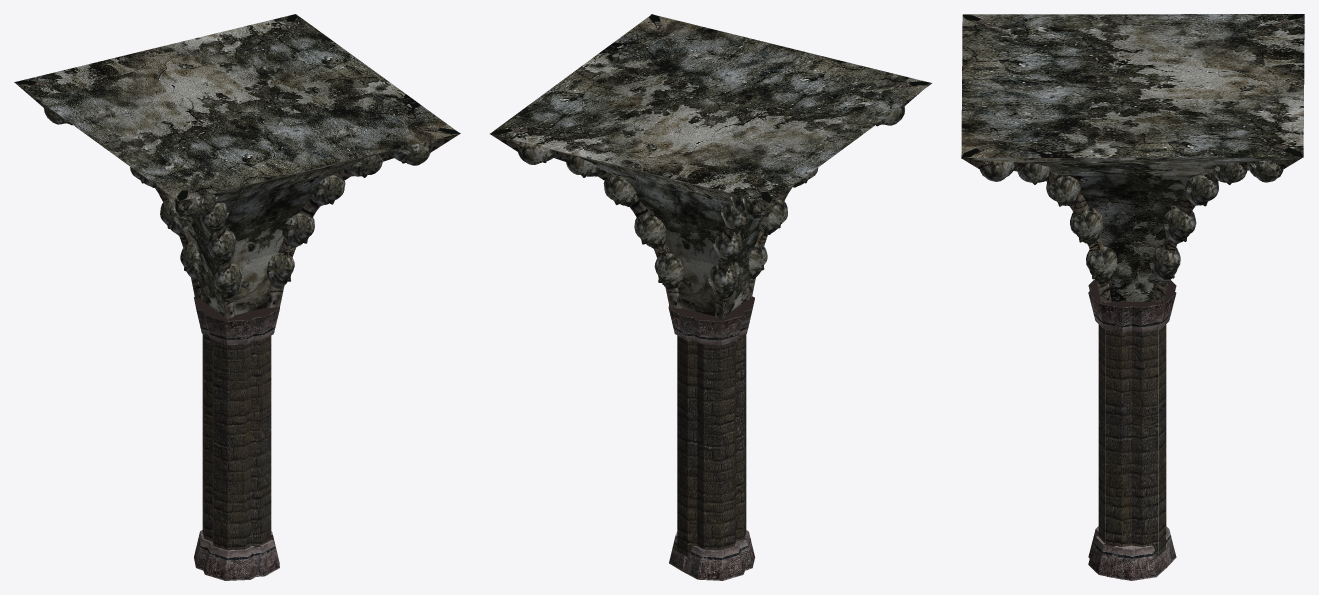
File: GazingPillar.fbx
The picture shows the model from 3 angles, left to right: view 1: azimuth 30°, elevation 25°; view 2: azimuth 150°, elevation 25°; view 3: azimuth 270°, elevation 25°; orthographic projection. The views are drawn at different scales.
Parts seen in each view (by area): view 1: Mesh1; view 2: Mesh1; view 3: Mesh1.
Part boxes in pixels (left/top/right/bottom): Mesh1: left=14, top=14, right=460, bottom=580; Mesh1: left=490, top=14, right=931, bottom=580; Mesh1: left=961, top=14, right=1304, bottom=580.
Size of the model in its own units: 11.49 by 17.72 by 11.57.
